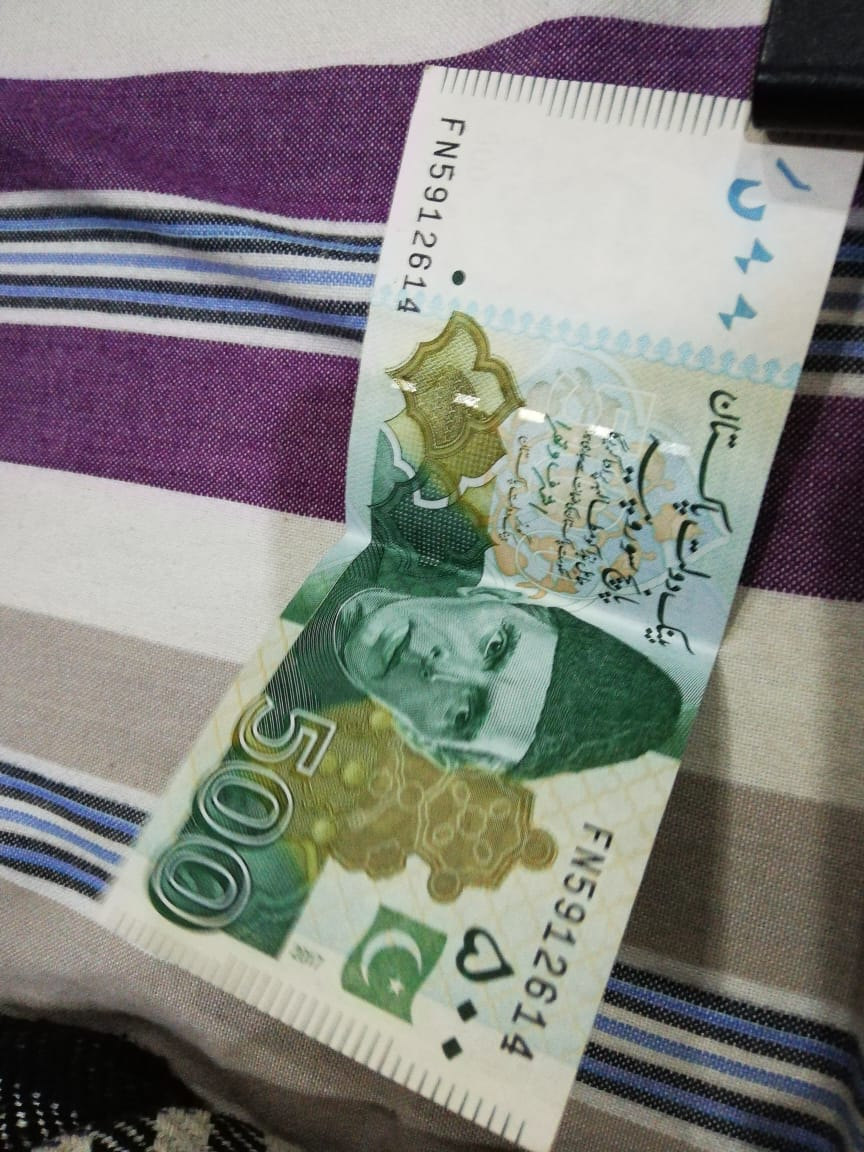500 rupee: (94, 54, 861, 1150)
